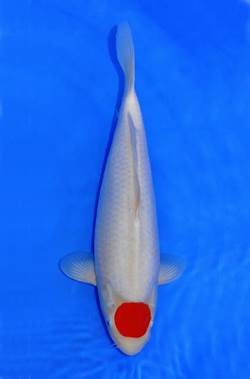sun: (59, 18, 182, 356)
